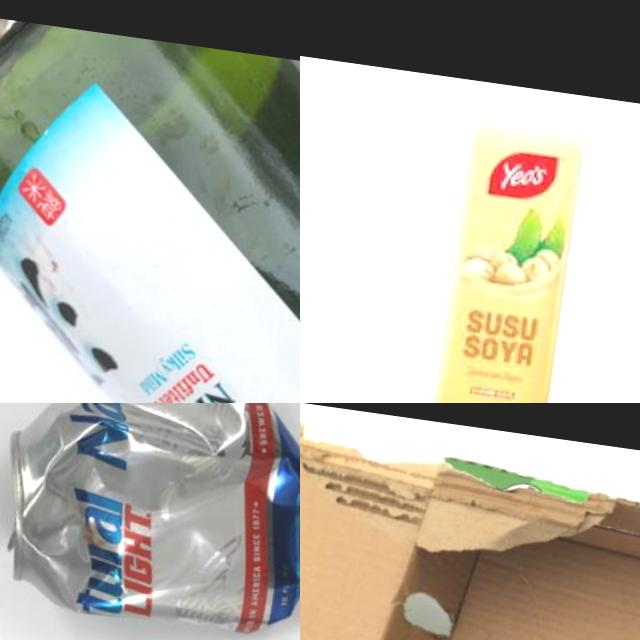caixinha: (434, 113, 588, 403)
garrafa de vidro: (0, 14, 300, 403)
lata: (0, 403, 300, 640)
papelão: (300, 436, 640, 640)
